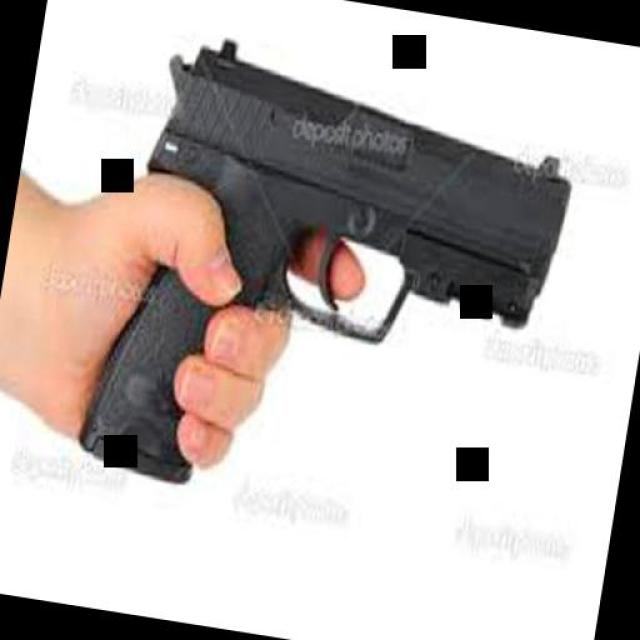gun: (75, 22, 586, 522)
